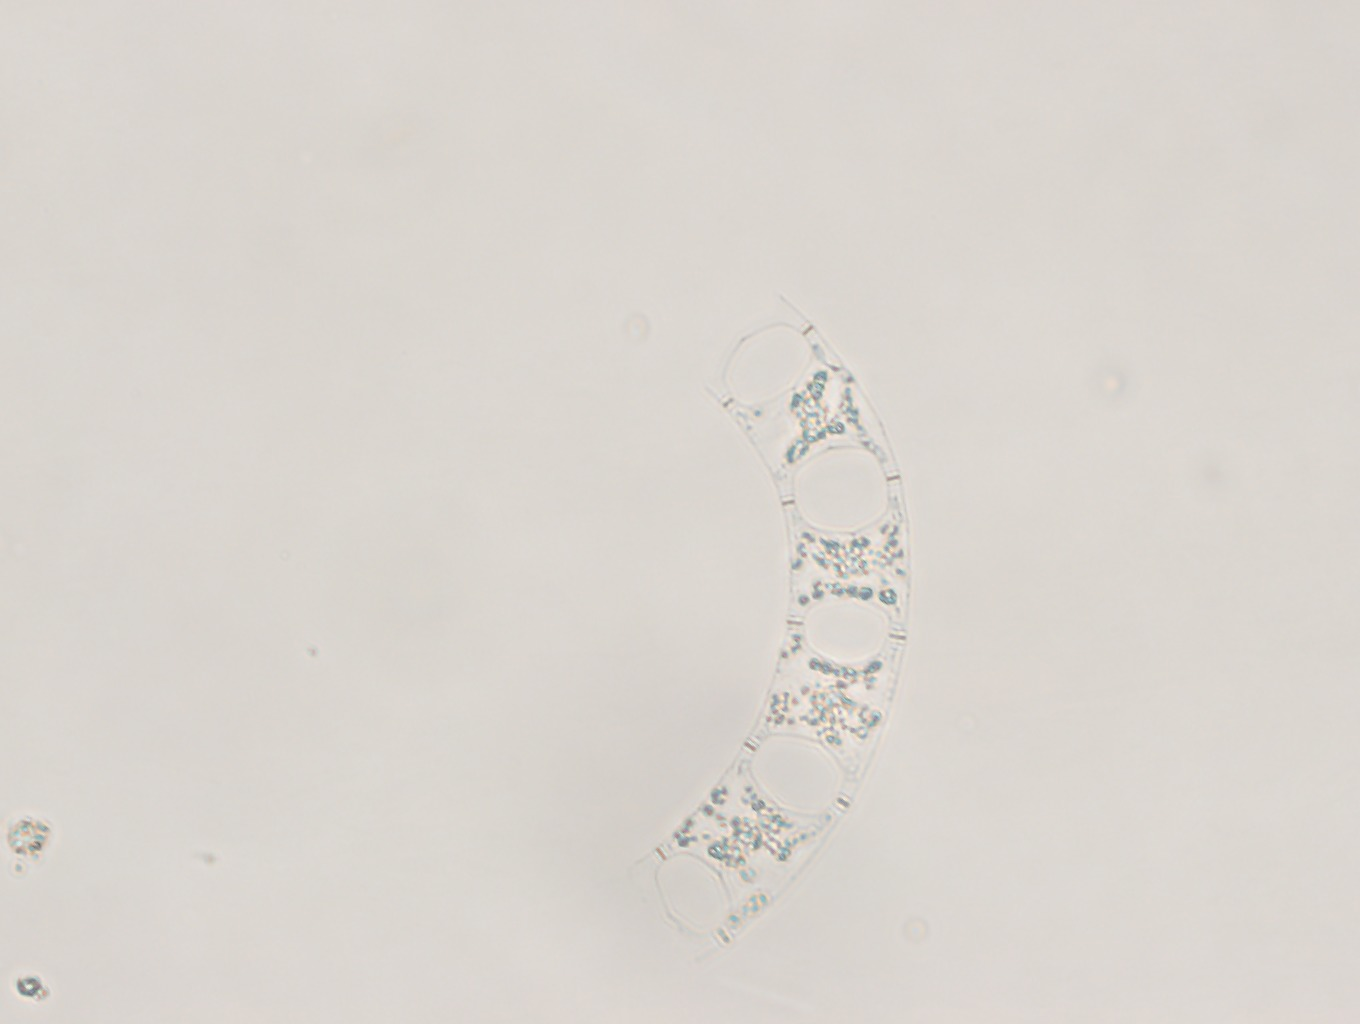eucampia: (614, 290, 930, 962)
